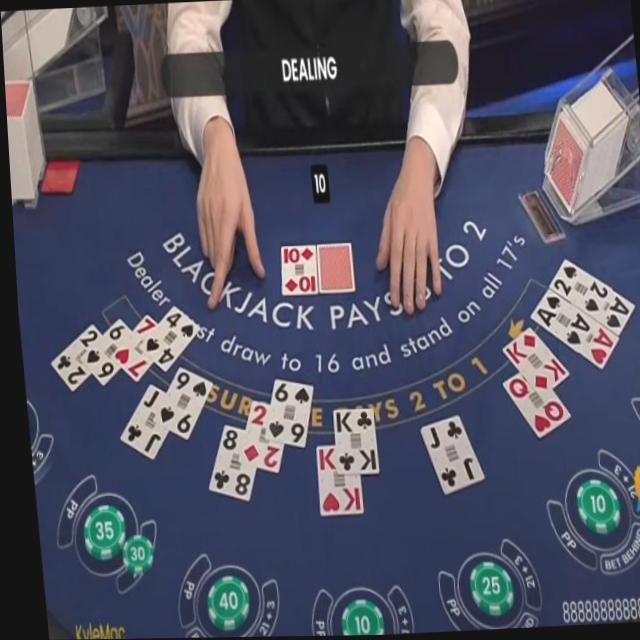Card-10: (277, 244, 313, 295)
Card-2: (46, 322, 96, 393), (545, 260, 606, 318), (232, 399, 278, 475)
Card-4: (134, 305, 195, 372)
Card-6: (75, 317, 125, 387), (259, 378, 307, 449)
Card-7: (106, 312, 152, 383)
Card-8: (202, 422, 249, 502)
Card-9: (148, 365, 207, 440)
Card-A: (526, 289, 590, 353), (574, 322, 614, 372), (591, 289, 631, 336)
Card-J: (414, 413, 478, 496), (114, 383, 163, 461)
Card-K: (497, 327, 564, 397), (310, 445, 356, 516), (327, 409, 373, 474)
Card-Q: (496, 373, 565, 441)
